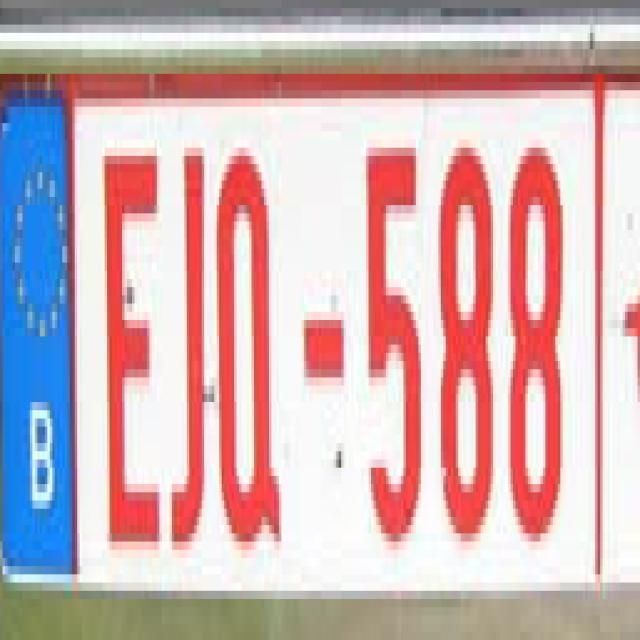Belgique: (2, 91, 75, 574)
EU: (0, 72, 638, 593)
